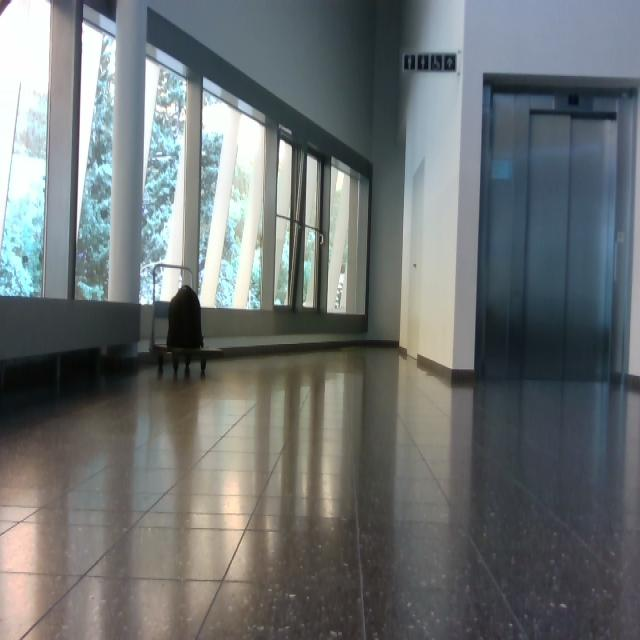chair: (150, 264, 224, 378)
door: (476, 81, 636, 385)
light bulb: (335, 170, 345, 192)
pillar: (107, 1, 148, 304)
tiled floor: (2, 344, 639, 638)
window: (1, 1, 373, 332)
